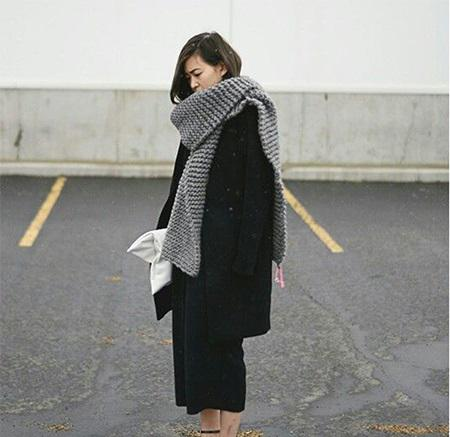WRONG: (185, 64, 221, 99)
